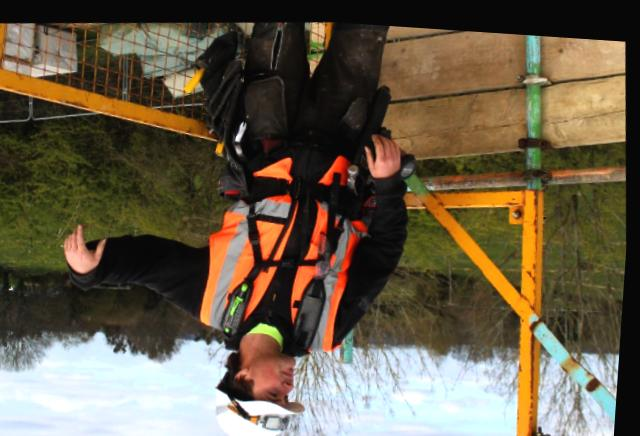helmet: (214, 376, 310, 436)
vest: (192, 140, 363, 340)
